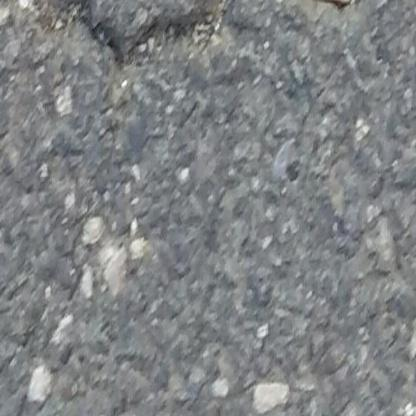Cracks: (0, 0, 260, 115), (292, 0, 384, 9)
